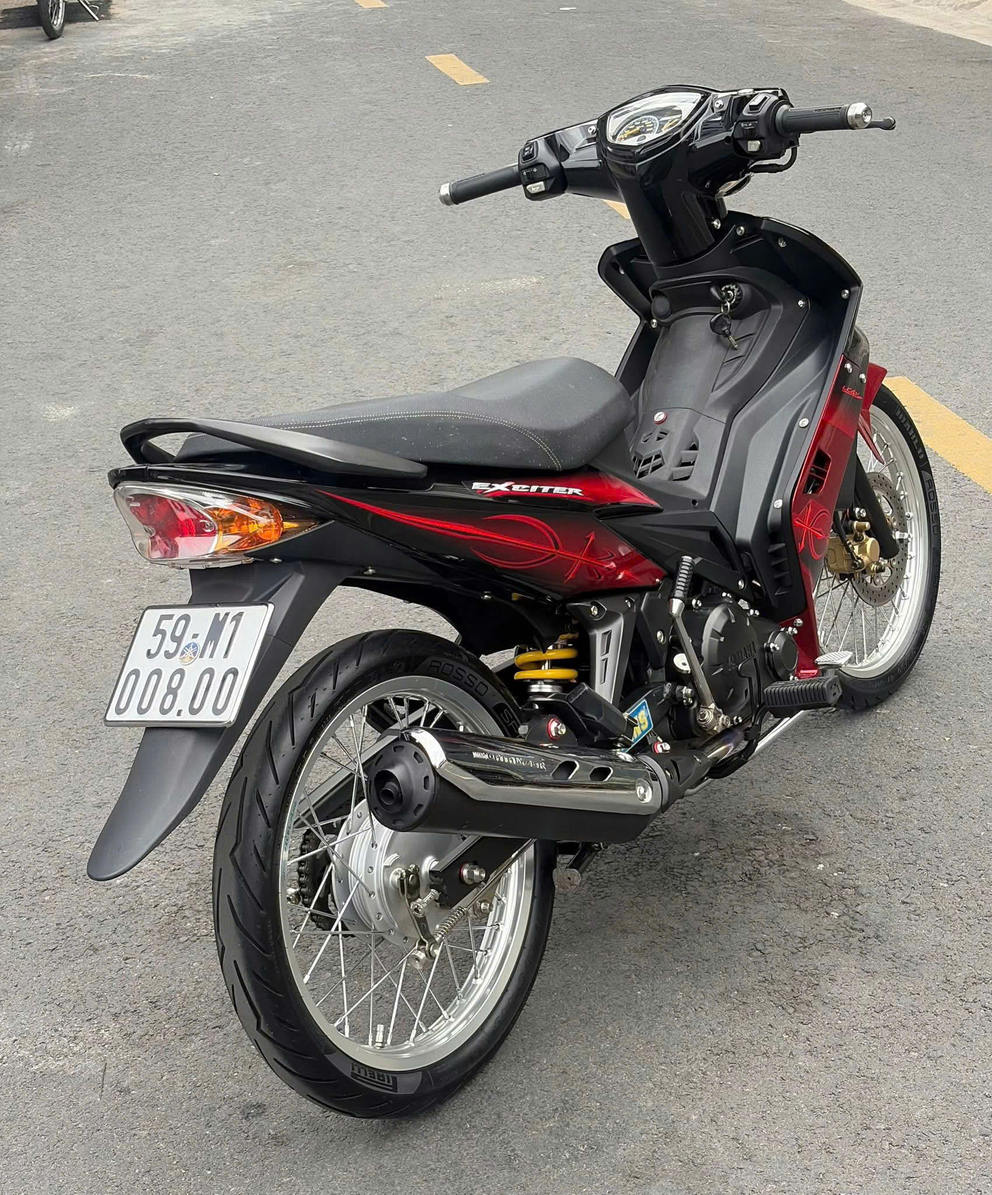Bien-so: (100, 608, 278, 733)
